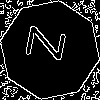Z: (25, 25, 76, 64)
